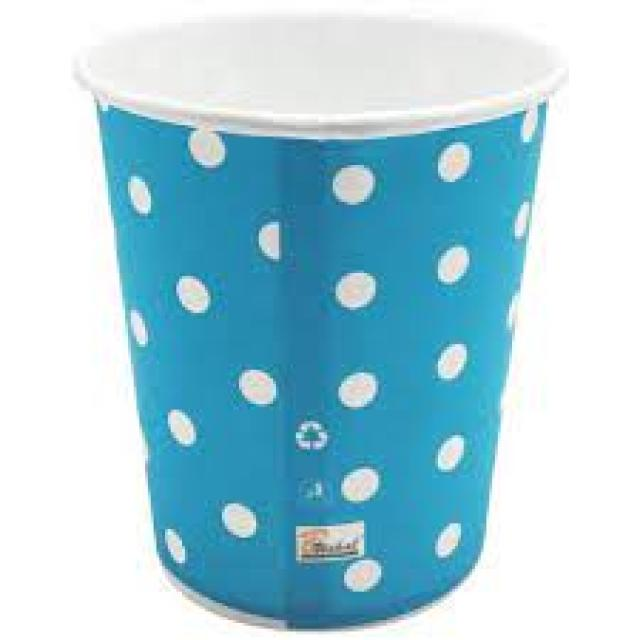PaperCardboard: (79, 12, 572, 619)
